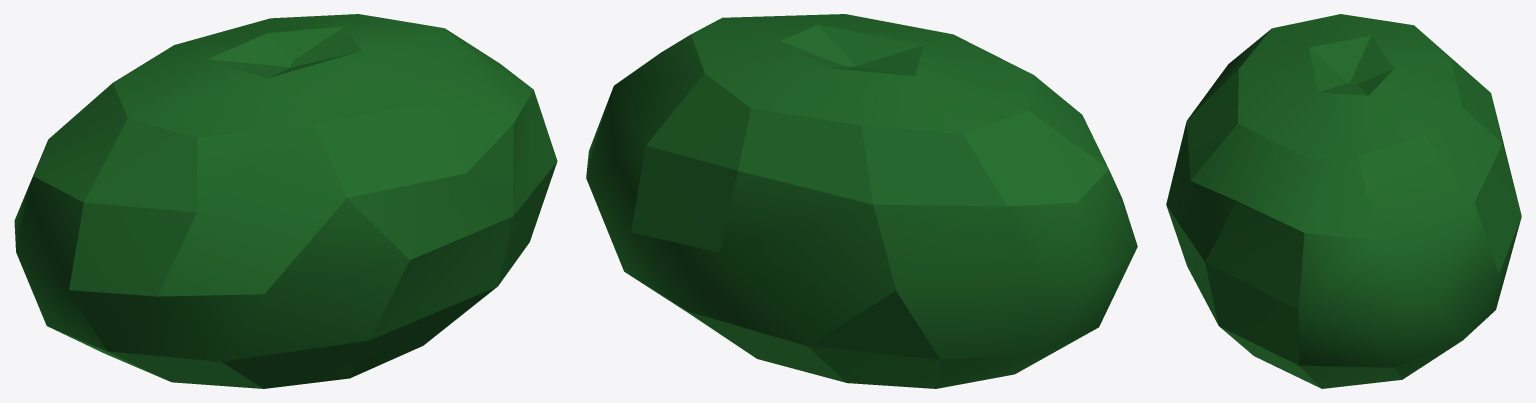
The model's file is MOD_Buisson.FBX.
3 renders of one model, left to right at view 1: azimuth 30°, elevation 25°; view 2: azimuth 150°, elevation 25°; view 3: azimuth 270°, elevation 25°, orthographic. The views are drawn at different scales.
Visible parts, largest first — view 1: MOD_bouisson; view 2: MOD_bouisson; view 3: MOD_bouisson.
Part boxes in pixels (left/top/right/bottom): MOD_bouisson: left=14, top=14, right=557, bottom=388; MOD_bouisson: left=586, top=14, right=1137, bottom=388; MOD_bouisson: left=1166, top=14, right=1521, bottom=388.
Bounding box in the file's own units: 1.99 × 1.1 × 1.3.
